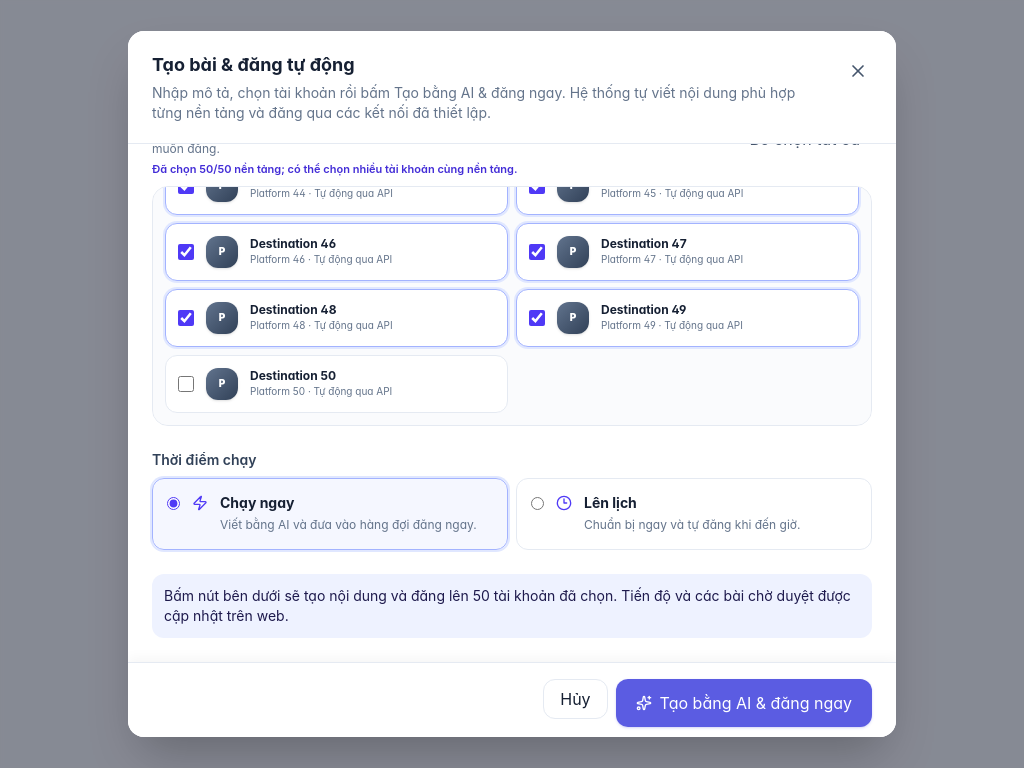
Test: AutomationCampaignModal › preselects and enforces at most 50 distinct destination platforms
This screenshot has width=1024, height=768.
(page scrolled)
Expected: the text "Đã chọn 50/50 nền tảng; có thể chọn nhiều tài khoản cùng nền tảng." is shown, [152,162,517,176]
Click the checkbox labelled "P Destination 50 Platform 50 · Tự động qua API" at (186, 384), box [178,376,194,392]
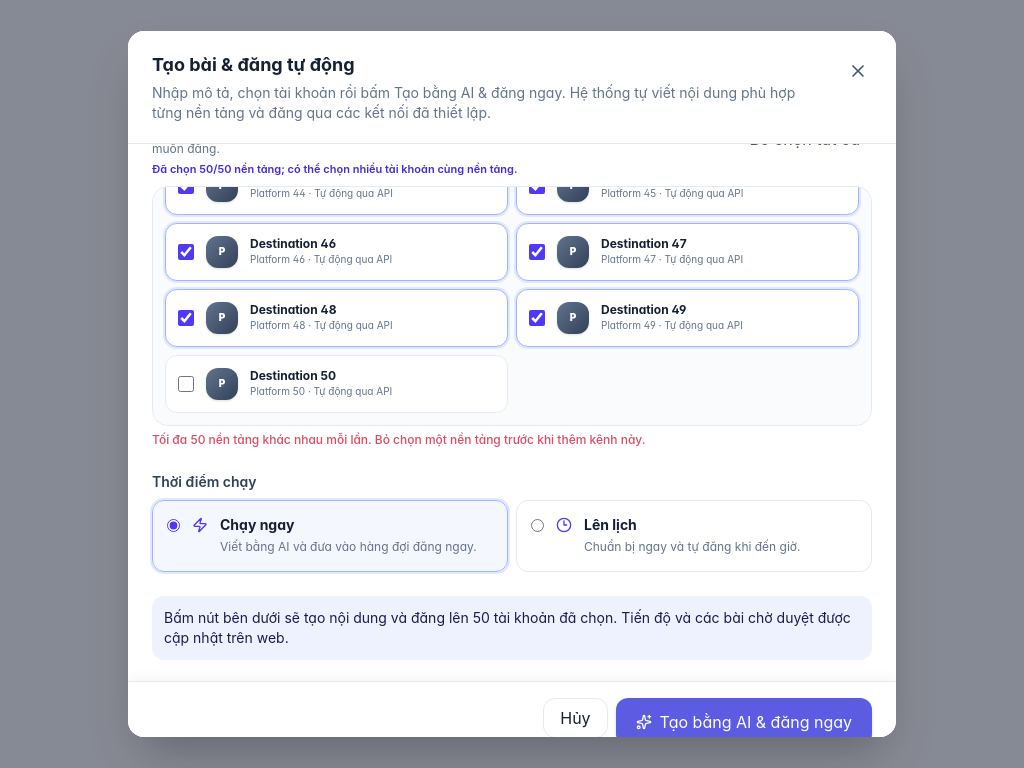
Expected: the text "Tối đa 50 nền tảng khác nhau mỗi lần" is shown, [152,432,645,447]
